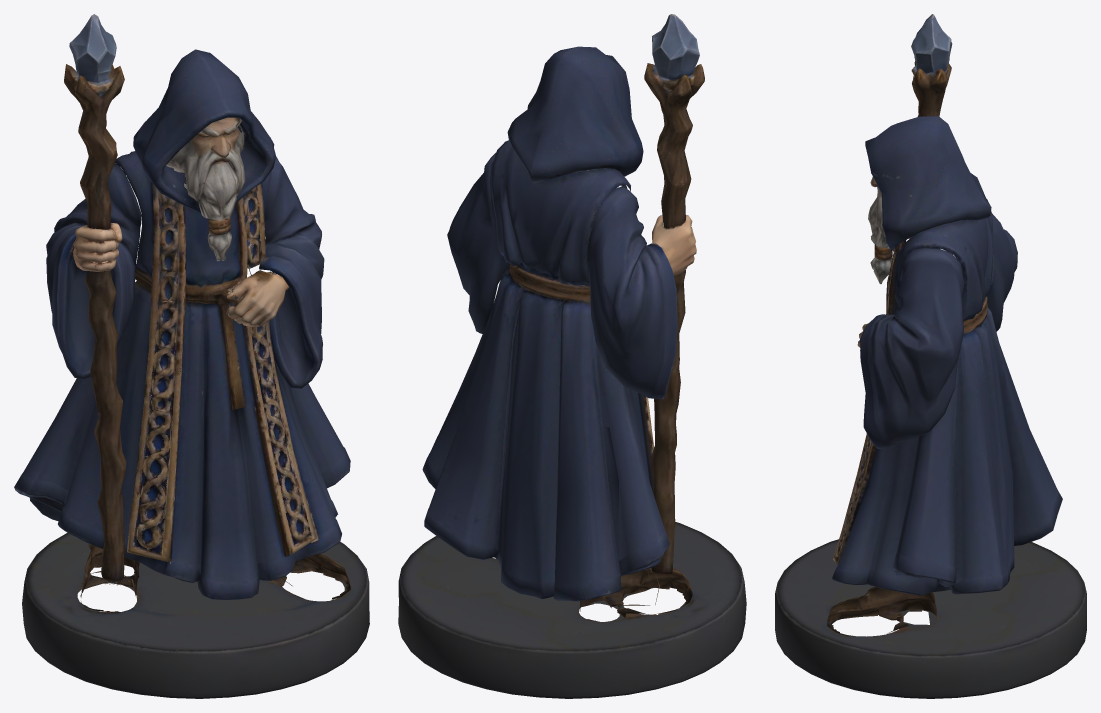
Rendered from merlin-tripo-d9ff4260-segmented-retopo.glb.
The picture shows the model from 3 angles, left to right: view 1: azimuth 30°, elevation 25°; view 2: azimuth 150°, elevation 25°; view 3: azimuth 270°, elevation 25°; orthographic projection. The views are drawn at different scales.
Visible parts, largest first — view 1: tripo_part_0, tripo_part_1, tripo_part_2, tripo_part_5, tripo_part_4, tripo_part_11, tripo_part_3, tripo_part_9, tripo_part_10, tripo_part_8, tripo_part_7, tripo_part_6; view 2: tripo_part_0, tripo_part_1, tripo_part_4, tripo_part_2, tripo_part_5, tripo_part_3, tripo_part_11, tripo_part_10, tripo_part_6, tripo_part_8; view 3: tripo_part_0, tripo_part_1, tripo_part_5, tripo_part_2, tripo_part_7, tripo_part_4, tripo_part_10, tripo_part_3.
Part boxes in pixels (x1=…): tripo_part_0: x1=14, y1=151, x2=350, y2=599; tripo_part_1: x1=22, y1=532, x2=369, y2=698; tripo_part_2: x1=133, y1=49, x2=276, y2=261; tripo_part_5: x1=249, y1=157, x2=324, y2=388; tripo_part_4: x1=46, y1=164, x2=141, y2=379; tripo_part_11: x1=84, y1=270, x2=126, y2=583; tripo_part_3: x1=64, y1=64, x2=124, y2=229; tripo_part_9: x1=227, y1=270, x2=288, y2=326; tripo_part_10: x1=69, y1=14, x2=116, y2=82; tripo_part_8: x1=73, y1=223, x2=122, y2=271; tripo_part_7: x1=274, y1=553, x2=350, y2=599; tripo_part_6: x1=80, y1=544, x2=139, y2=612; tripo_part_0: x1=422, y1=140, x2=670, y2=601; tripo_part_1: x1=398, y1=522, x2=746, y2=698; tripo_part_4: x1=587, y1=186, x2=677, y2=399; tripo_part_2: x1=507, y1=46, x2=643, y2=183; tripo_part_5: x1=447, y1=152, x2=509, y2=333; tripo_part_3: x1=644, y1=63, x2=704, y2=228; tripo_part_11: x1=651, y1=270, x2=685, y2=574; tripo_part_10: x1=652, y1=14, x2=699, y2=80; tripo_part_6: x1=580, y1=568, x2=692, y2=621; tripo_part_8: x1=652, y1=215, x2=696, y2=276; tripo_part_0: x1=832, y1=217, x2=1062, y2=595; tripo_part_1: x1=775, y1=539, x2=1086, y2=698; tripo_part_5: x1=860, y1=247, x2=964, y2=448; tripo_part_2: x1=865, y1=115, x2=991, y2=284; tripo_part_7: x1=827, y1=587, x2=936, y2=636; tripo_part_4: x1=932, y1=199, x2=1017, y2=331; tripo_part_10: x1=911, y1=14, x2=952, y2=73; tripo_part_3: x1=911, y1=61, x2=951, y2=116.
Size of the model in its own units: 0.4812 by 0.9794 by 0.4812.
12 materials, 12 textured.
